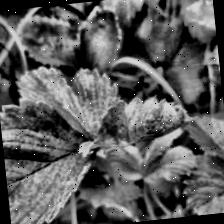Powdery Mildew Leaf: (90, 90, 198, 152)
